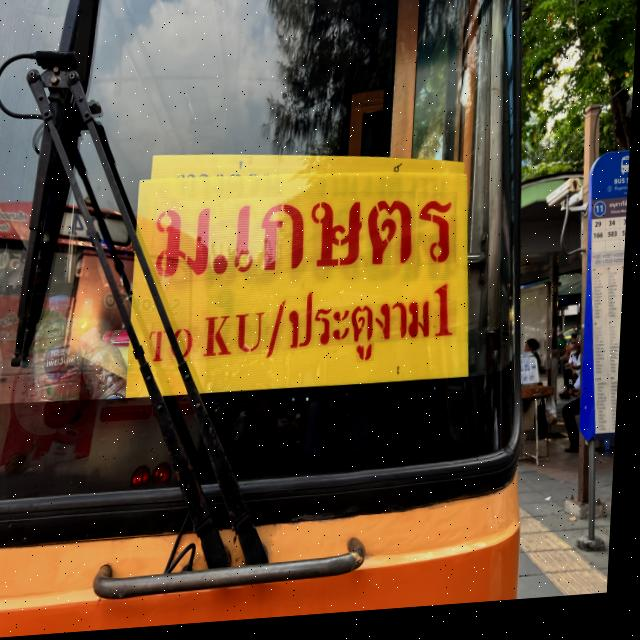BMTA-bus: (0, 0, 557, 640)
Destination-Sign-Extra-Bus-Expressway: (131, 164, 483, 399)
